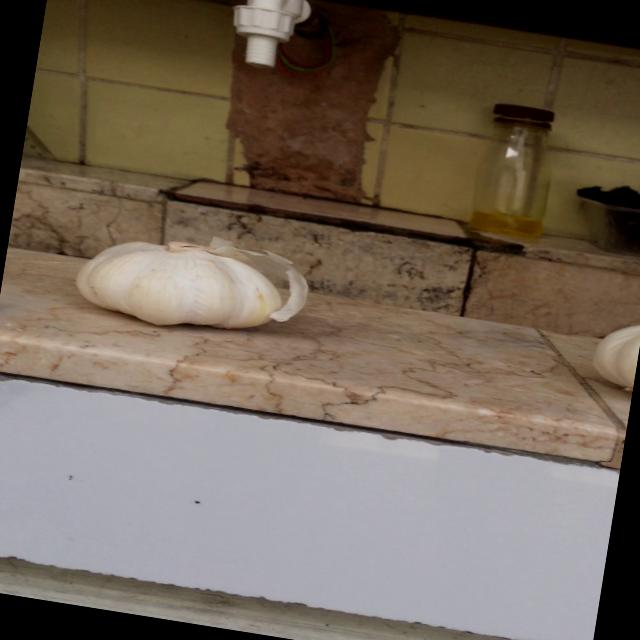garlic: (70, 213, 318, 351)
